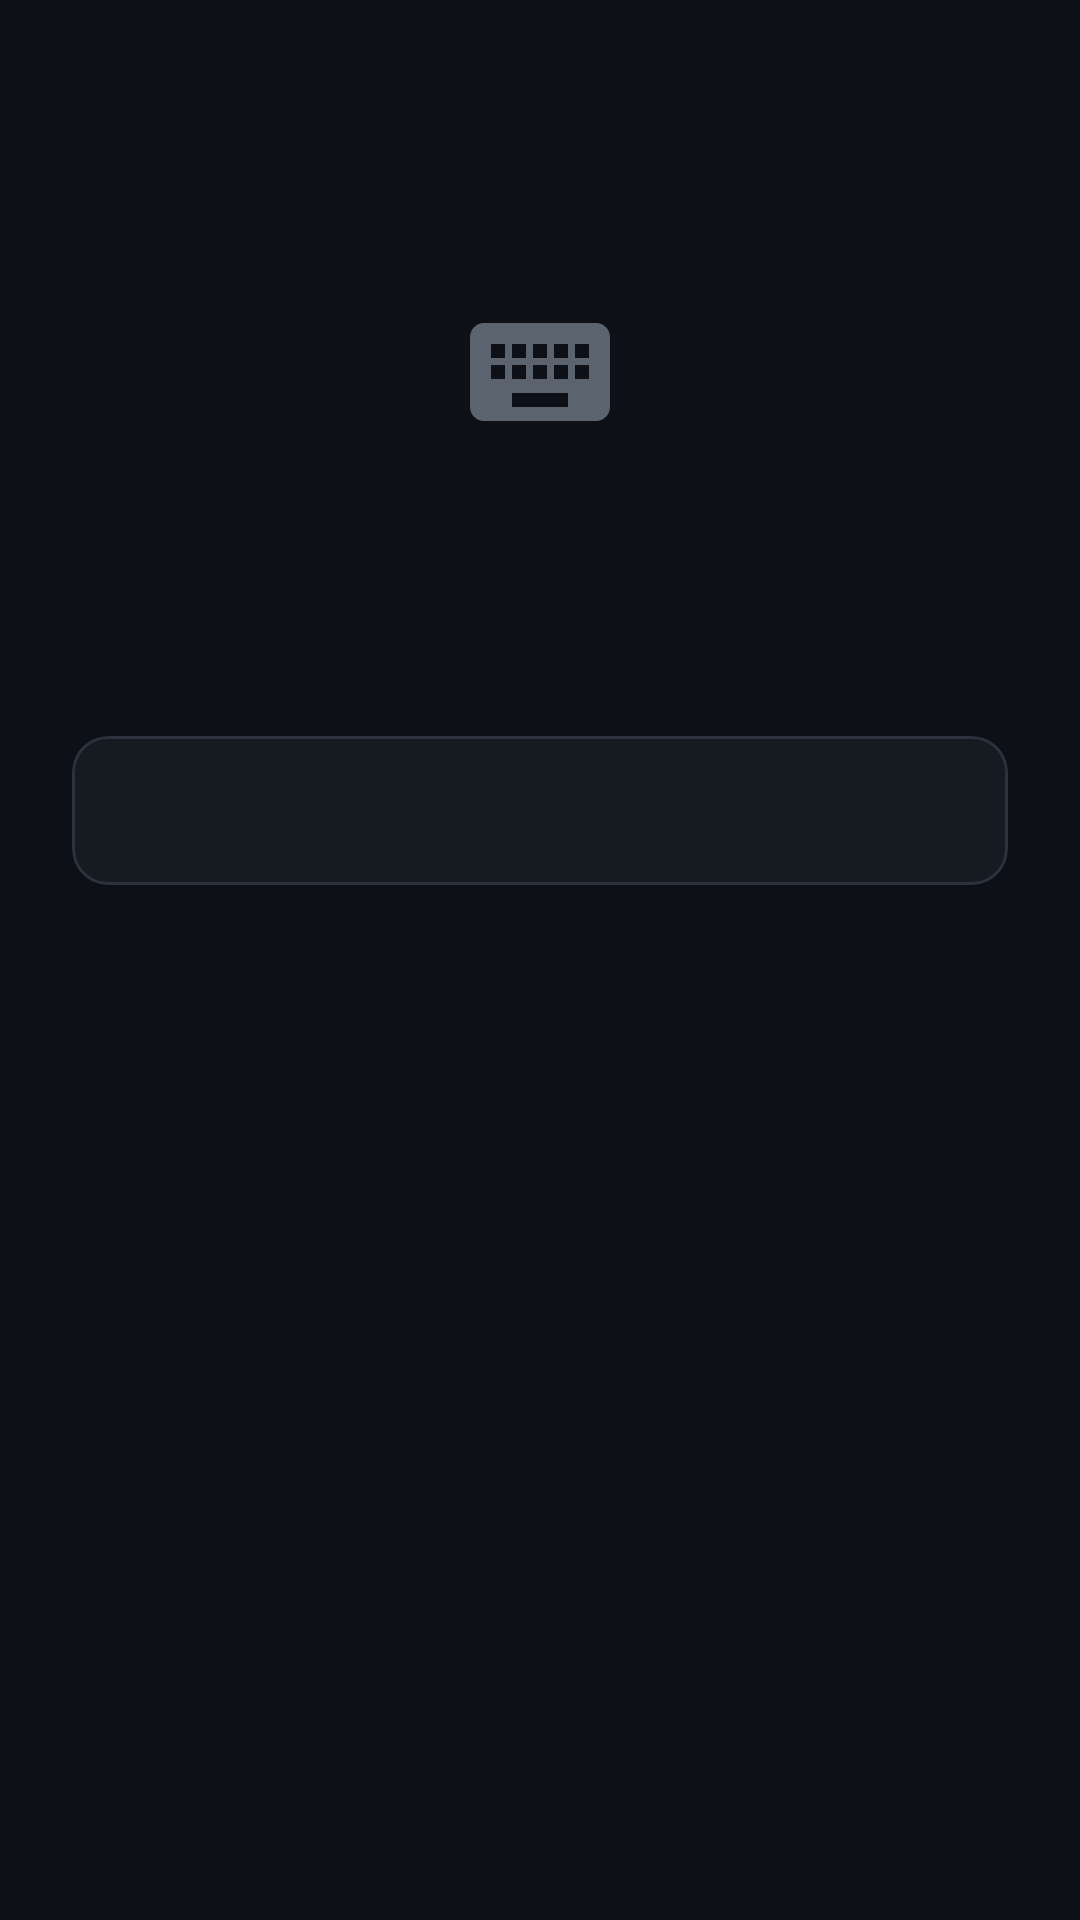

Locate icon controls on the screen. Image size 1080x1920, boxes as bbox(x1, y1, x2, y2).
keys: bbox(470, 323, 610, 421)
